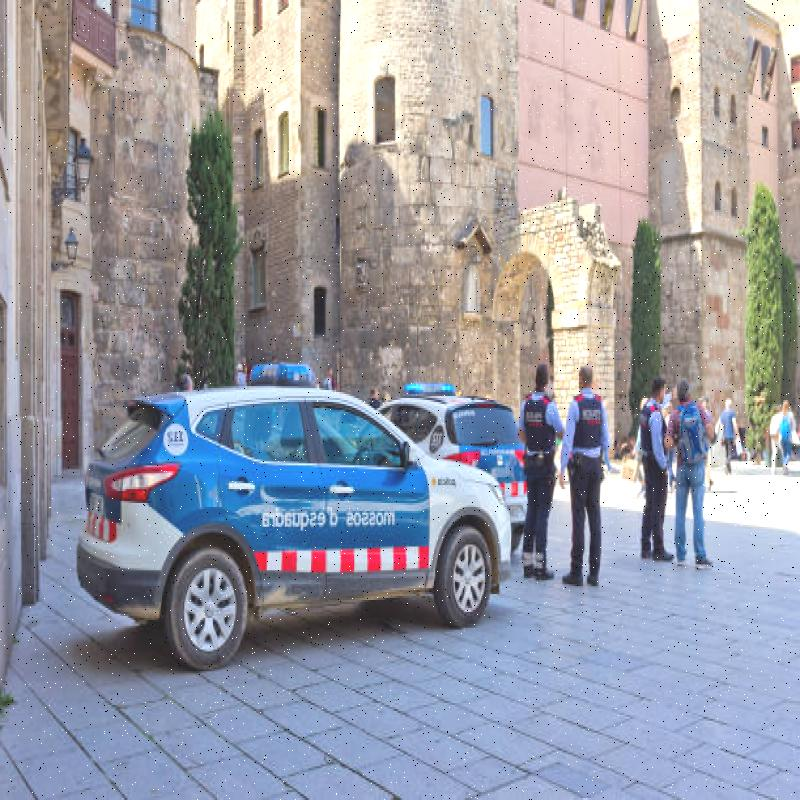AmbulanceSiren: (248, 328, 335, 396), (392, 370, 472, 401)
